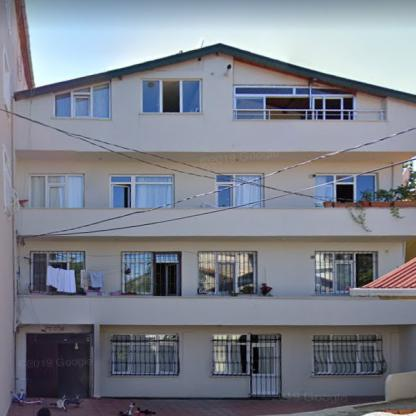door: (26, 334, 86, 396), (253, 343, 277, 393)
window: (234, 86, 352, 119), (114, 334, 175, 374), (316, 253, 375, 294), (198, 253, 254, 295), (314, 337, 378, 372), (124, 253, 176, 295), (31, 252, 84, 292), (111, 177, 173, 208), (142, 80, 200, 113), (315, 175, 376, 206), (57, 83, 110, 117), (31, 176, 84, 206), (215, 176, 262, 206), (214, 335, 246, 374), (253, 334, 277, 342)
